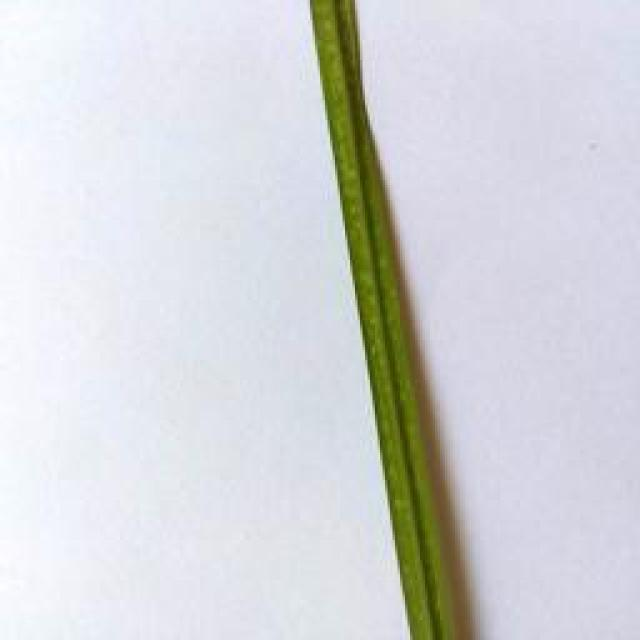Healthy-Plant: (310, 0, 456, 640)
